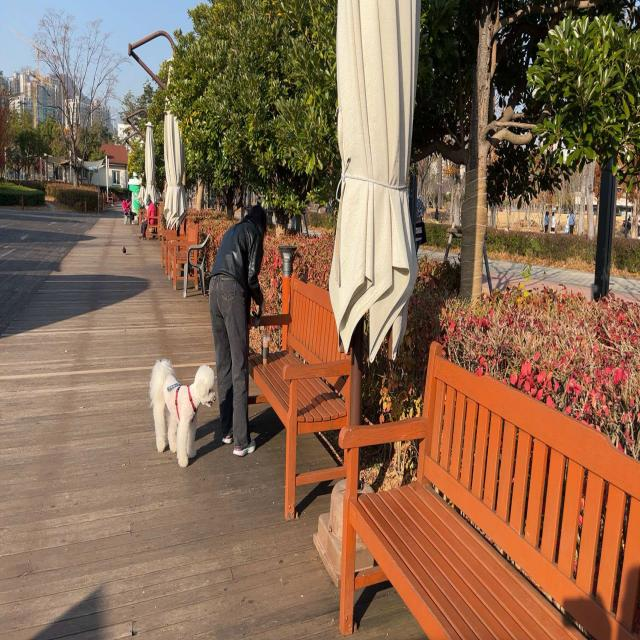Leashed_Dog: (148, 352, 226, 470)
